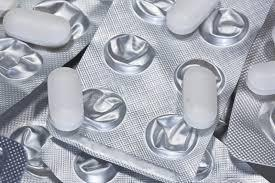pill_Strip: (48, 0, 271, 181), (0, 0, 111, 113), (0, 84, 80, 182), (227, 3, 274, 166)
